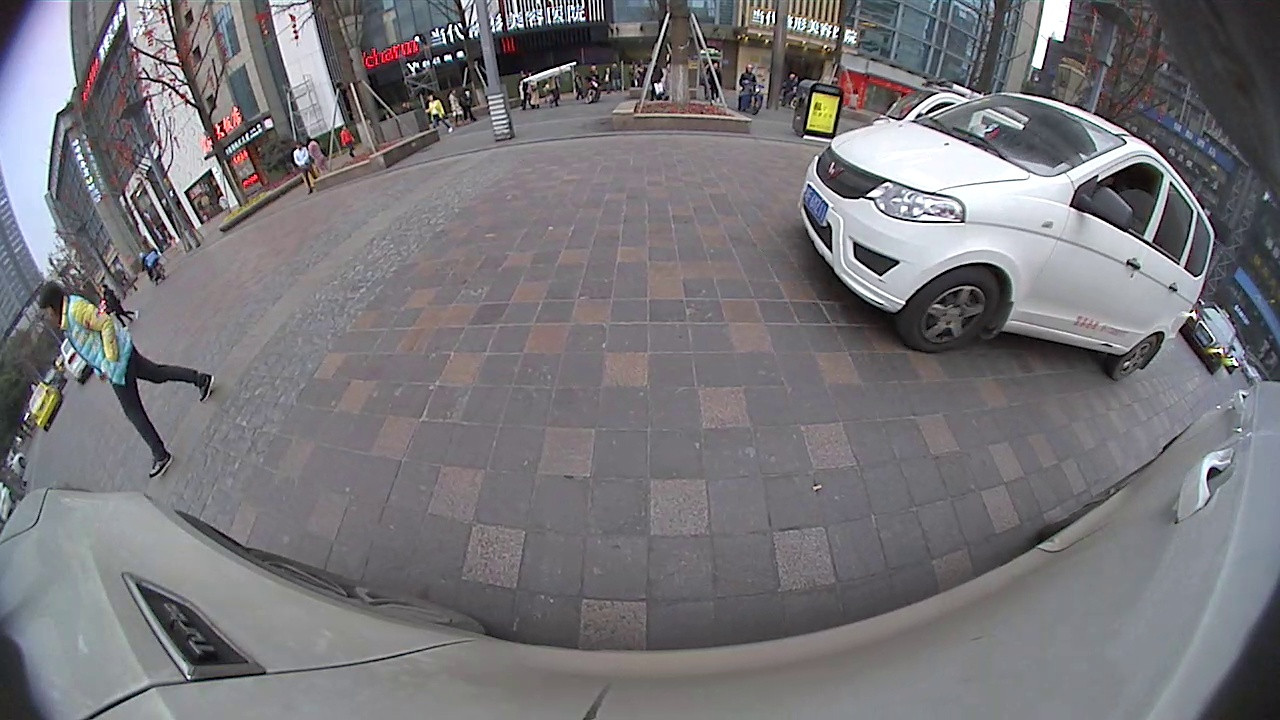car: (799, 89, 1218, 383), (1180, 301, 1238, 375), (25, 380, 66, 433)
front: (892, 263, 1004, 356)
person: (38, 280, 89, 458)
rear: (1109, 329, 1161, 383)
